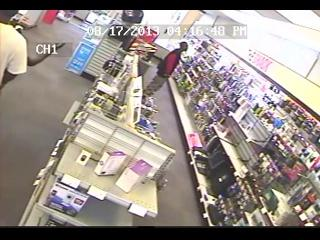Normal: (0, 16, 41, 96), (144, 42, 188, 98)
